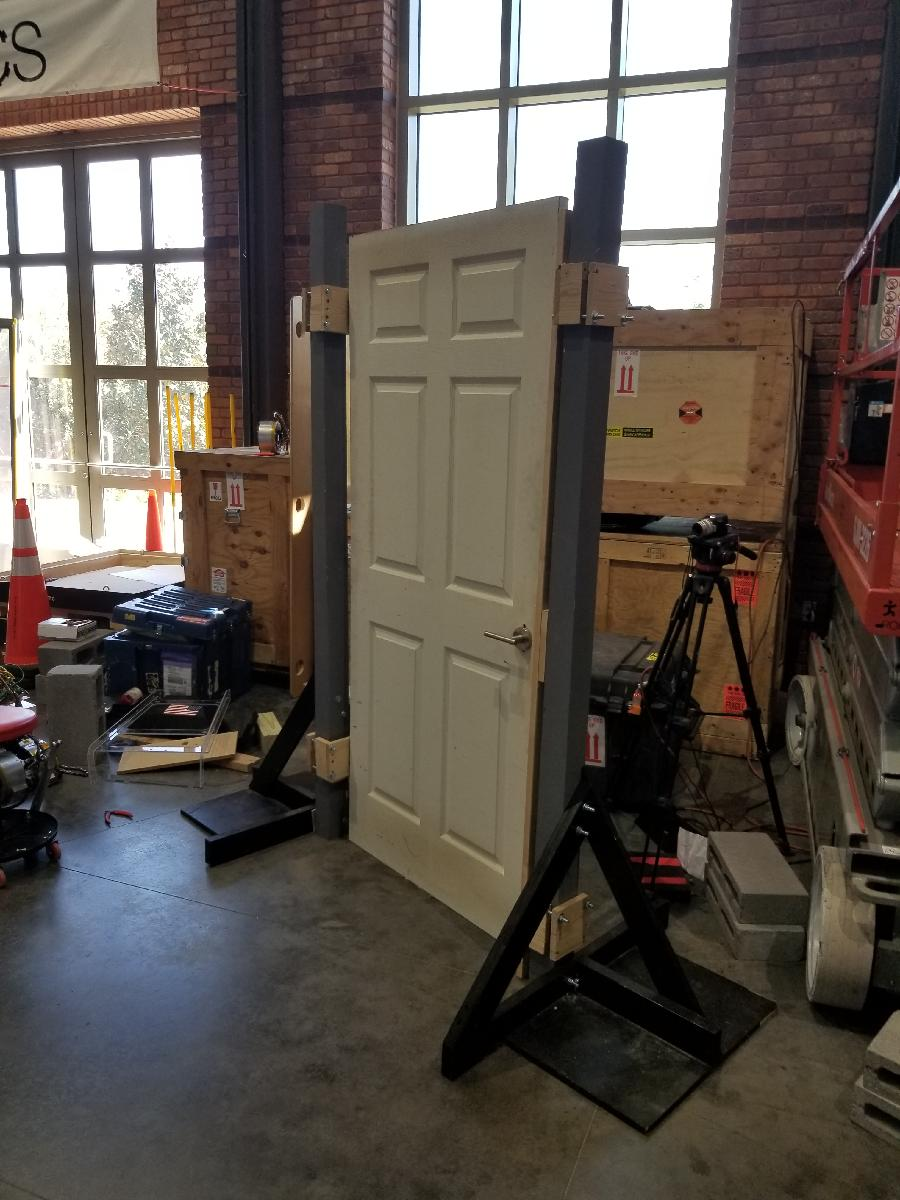door: (346, 192, 571, 961)
doorHandle: (480, 619, 534, 659)
